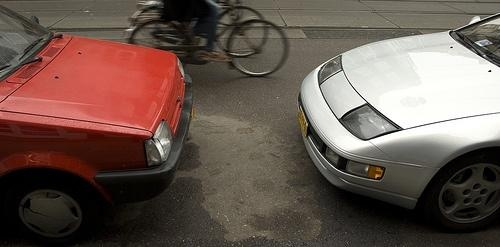bicycle: (125, 4, 292, 80), (128, 2, 270, 59)
car: (2, 5, 196, 244), (296, 12, 500, 233)
